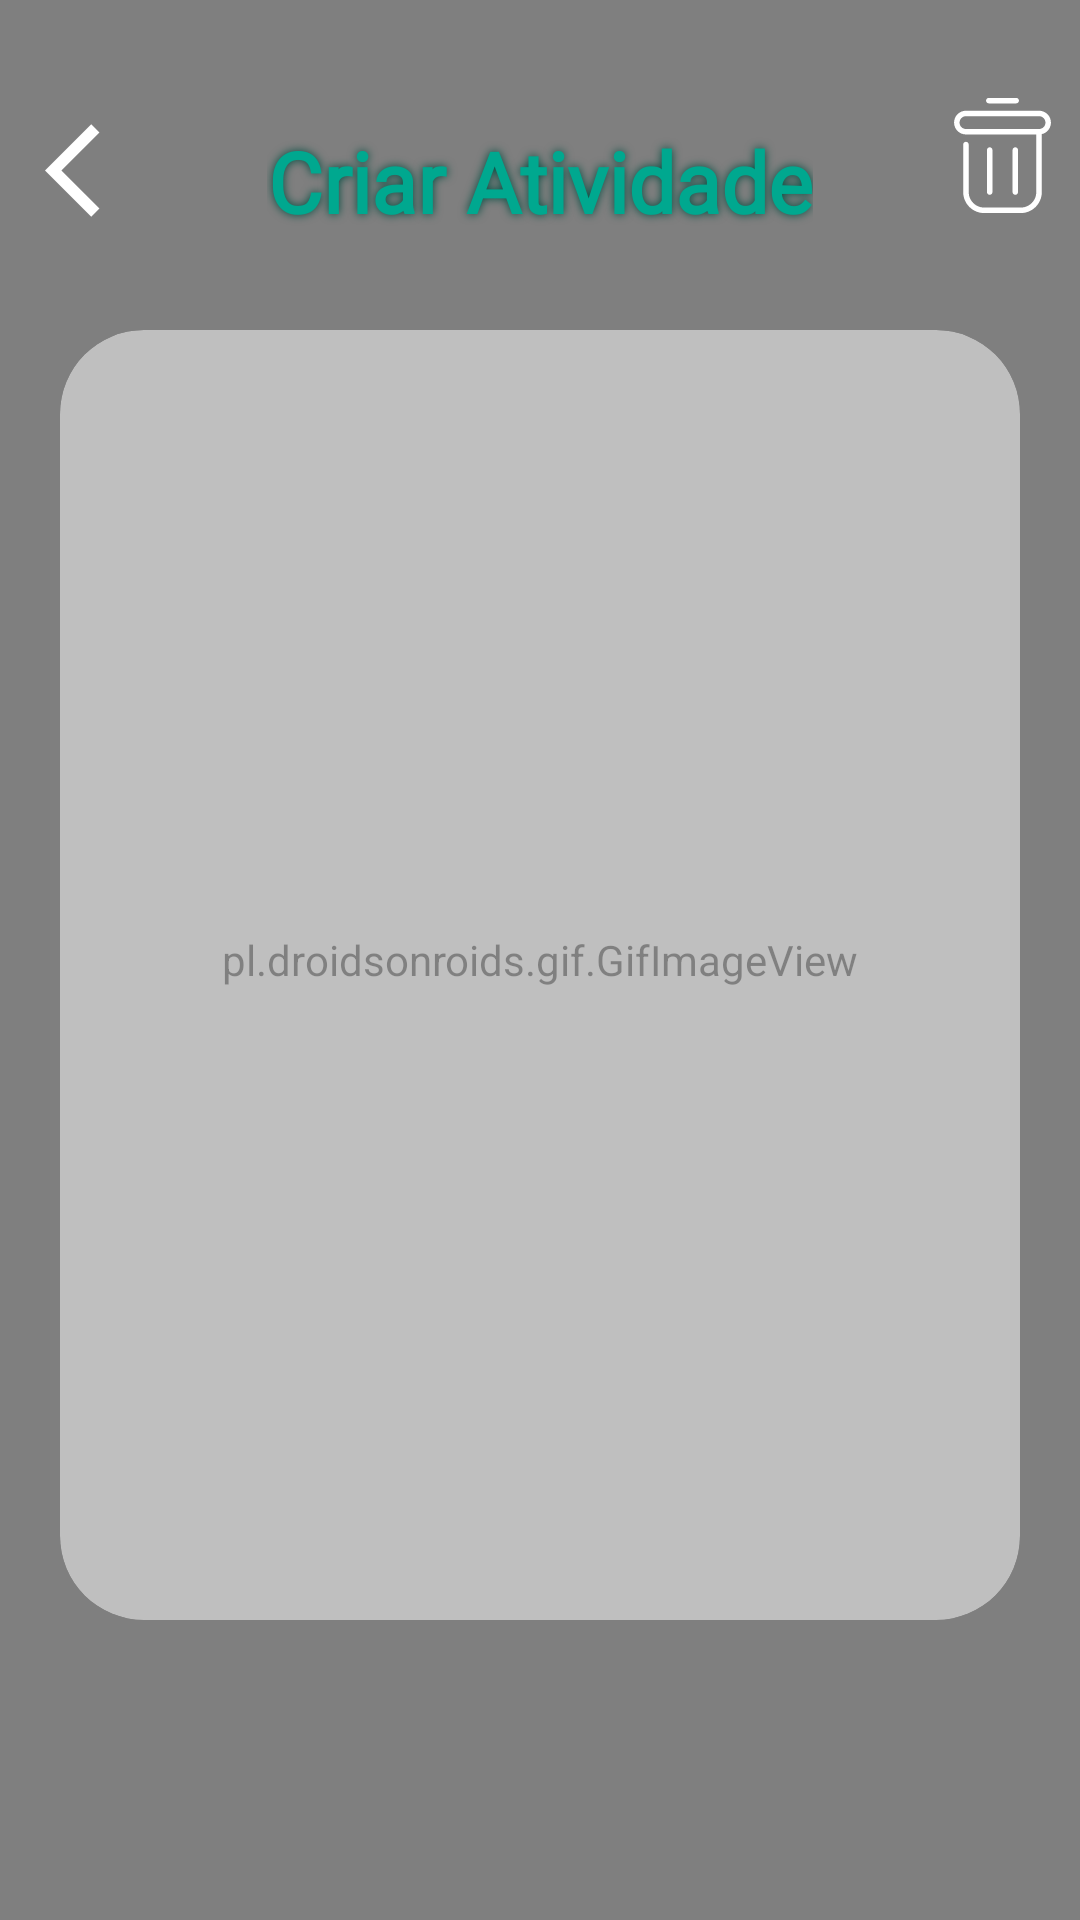

Where to tap for icons on this 1080x1920 app screen, as point (x, y):
limpar: point (1002, 155)
voltar: point (72, 170)
